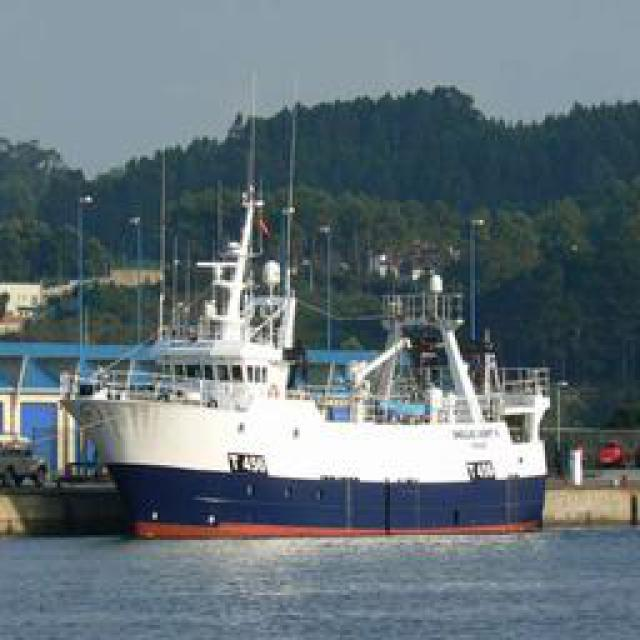Ship: (64, 72, 559, 530)
